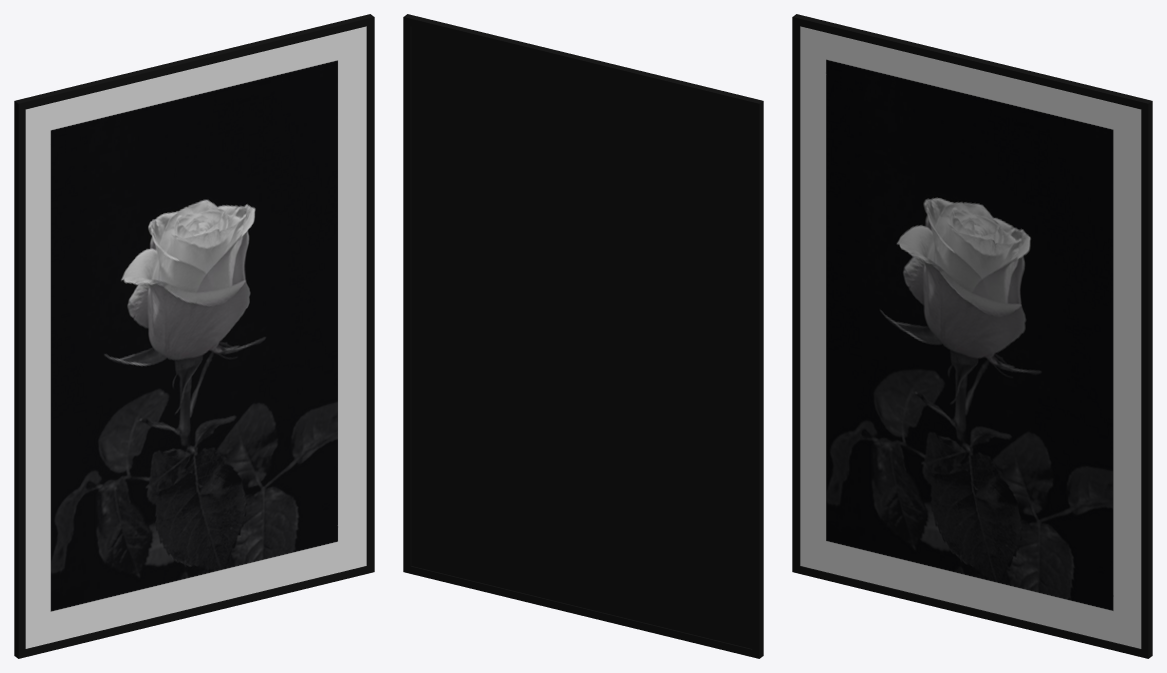
Rendered from Picture 2.FBX.
3 renders of one model, left to right at view 1: azimuth 30°, elevation 25°; view 2: azimuth 150°, elevation 25°; view 3: azimuth 330°, elevation 25°, orthographic.
Visible parts, largest first — view 1: picture 2; view 2: picture 2; view 3: picture 2.
Boxes of the visible parts, x1,y1,x2,y2 form: picture 2: [14, 14, 374, 658]; picture 2: [403, 14, 763, 658]; picture 2: [792, 14, 1152, 658].
Size of the model in its own units: 40.43 by 60.26 by 0.8056.
Materials: 1 (1 with a texture image).
